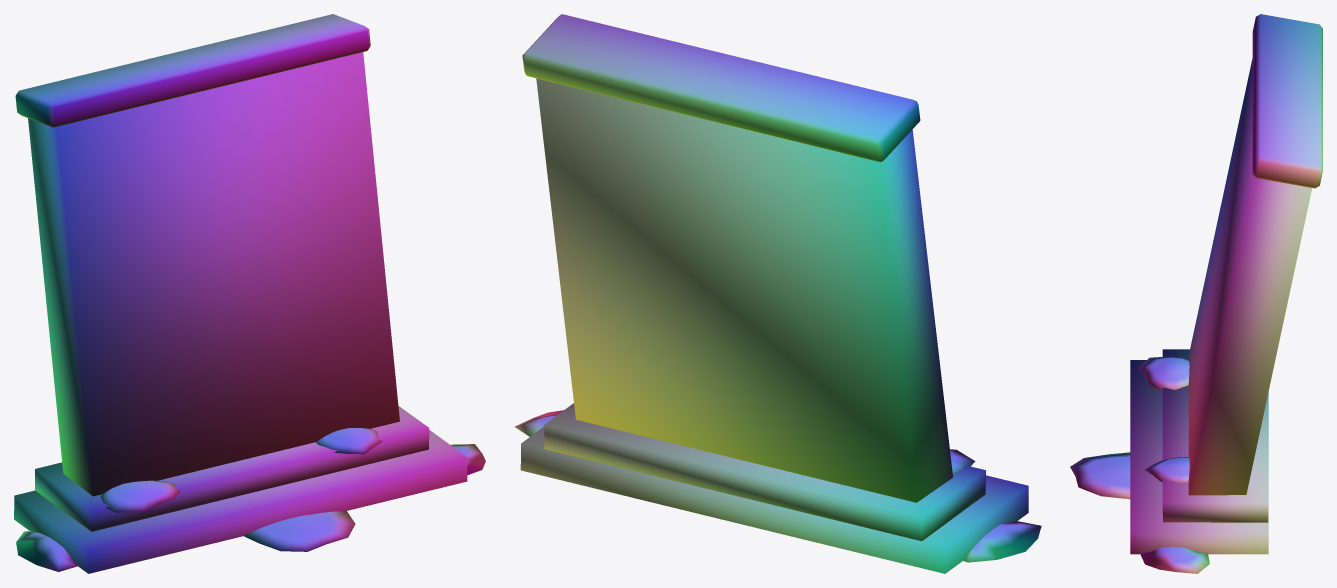
Rendered from SM_Pit_FlameNiche.fbx.
The picture shows the model from 3 angles, left to right: view 1: azimuth 30°, elevation 25°; view 2: azimuth 150°, elevation 25°; view 3: azimuth 270°, elevation 25°; orthographic projection. The views are drawn at different scales.
Visible parts, largest first — view 1: SM_Pit_FlameNiche; view 2: SM_Pit_FlameNiche; view 3: SM_Pit_FlameNiche.
Boxes of the visible parts, x1,y1,x2,y2 form: SM_Pit_FlameNiche: (14,14,485,573); SM_Pit_FlameNiche: (514,14,1041,573); SM_Pit_FlameNiche: (1070,14,1322,573).
Bounding box in the file's own units: 3.32 × 2.88 × 1.72.
